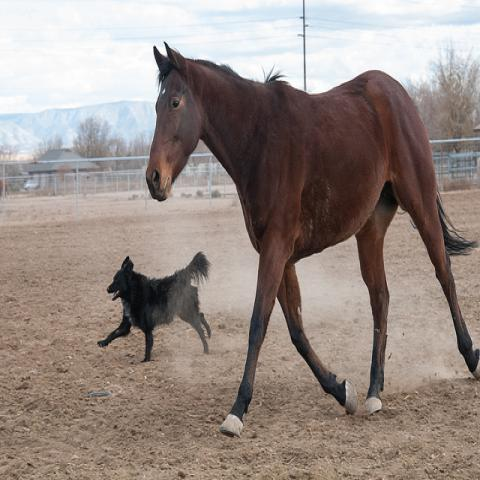car: (23, 180, 40, 190)
